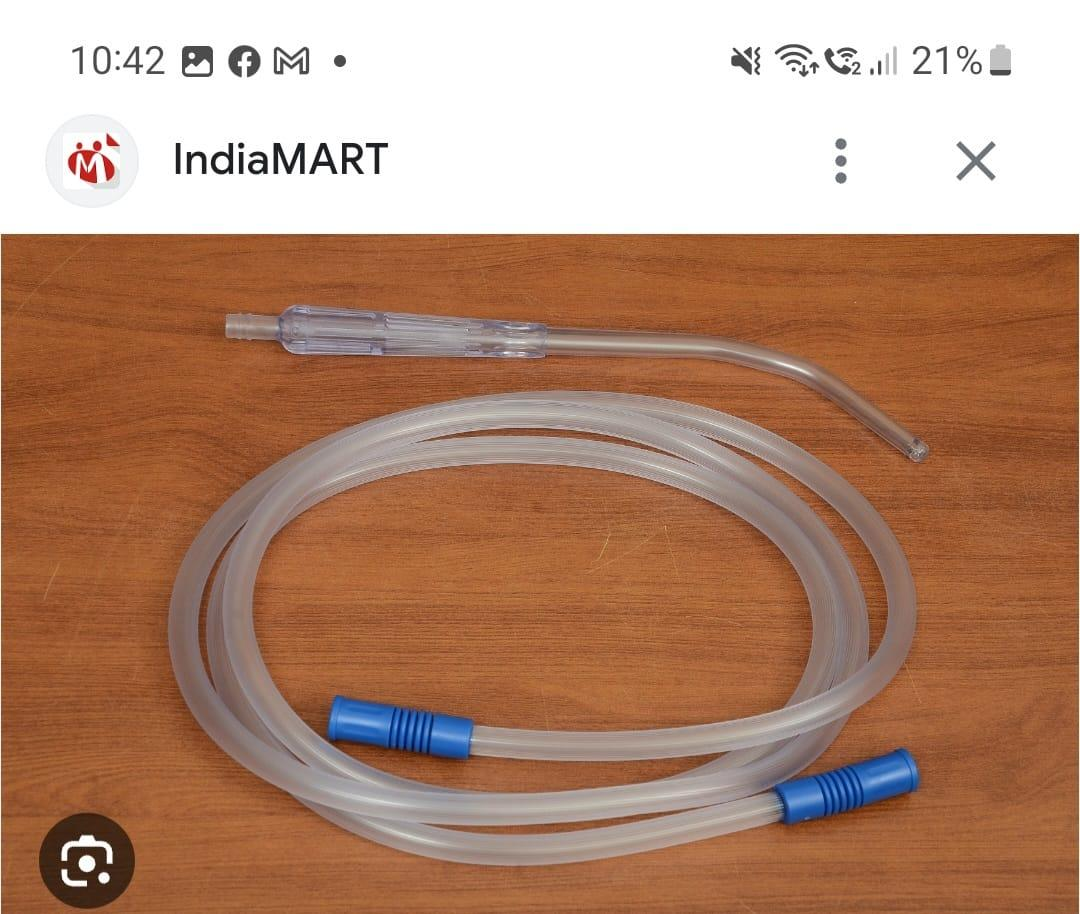Suction Tube Nozzle: (159, 299, 959, 879)
